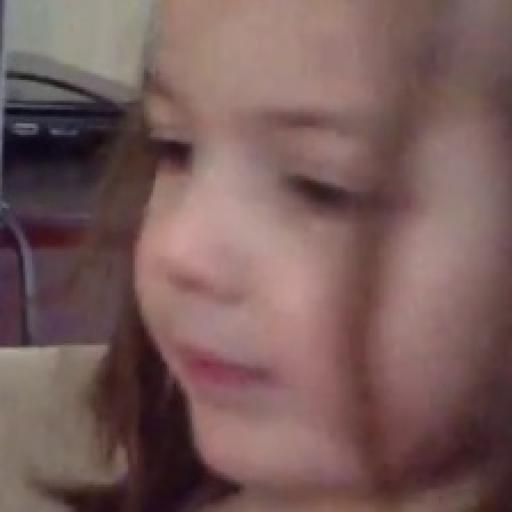Autism: (124, 8, 506, 504)
